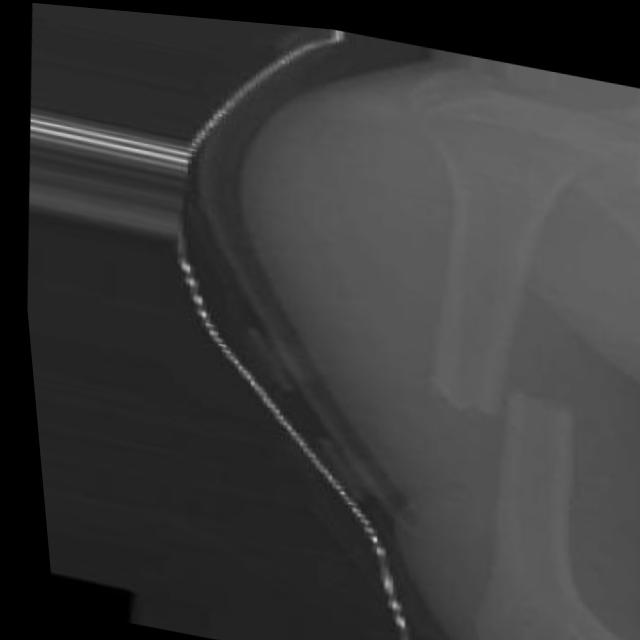fracture: (409, 346, 593, 438)
